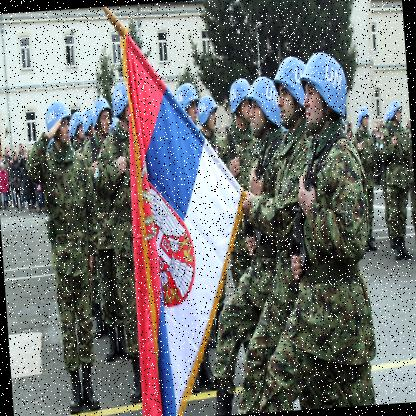rs: (117, 28, 261, 416)
